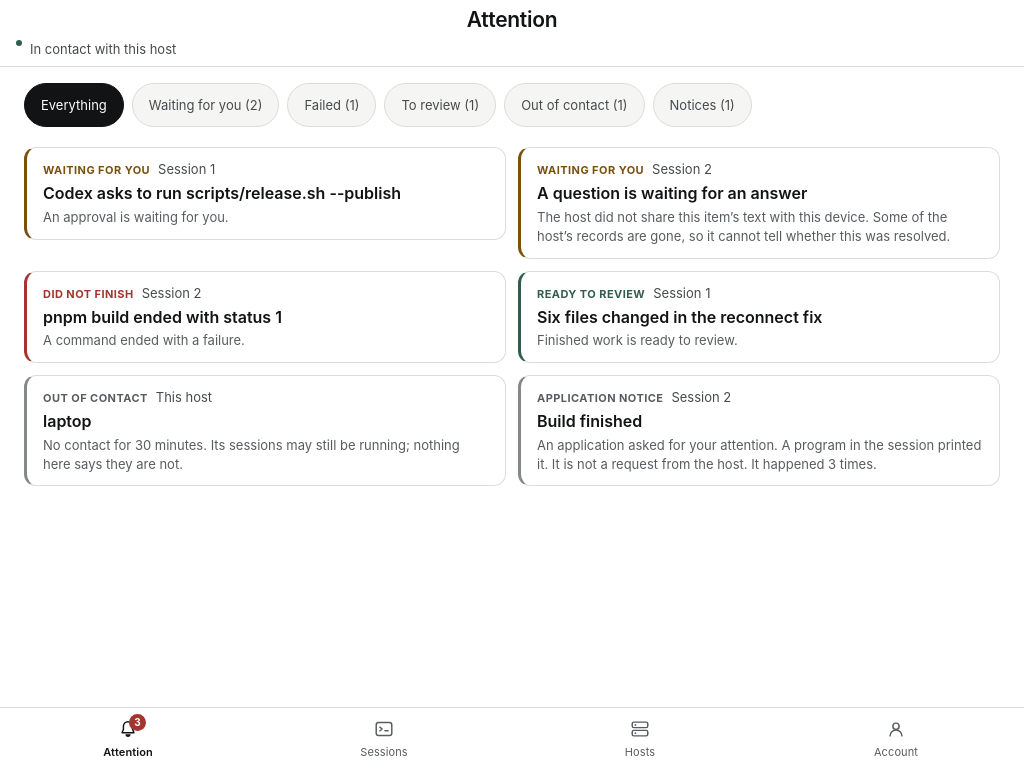
Test: a draft that came back is bound again when the host has said where it stands (KR-ACC-012) › asks the host about a draft in a session that is not on screen
Click the button "Sessions".
click(384, 738)  # box [256,708,512,767]
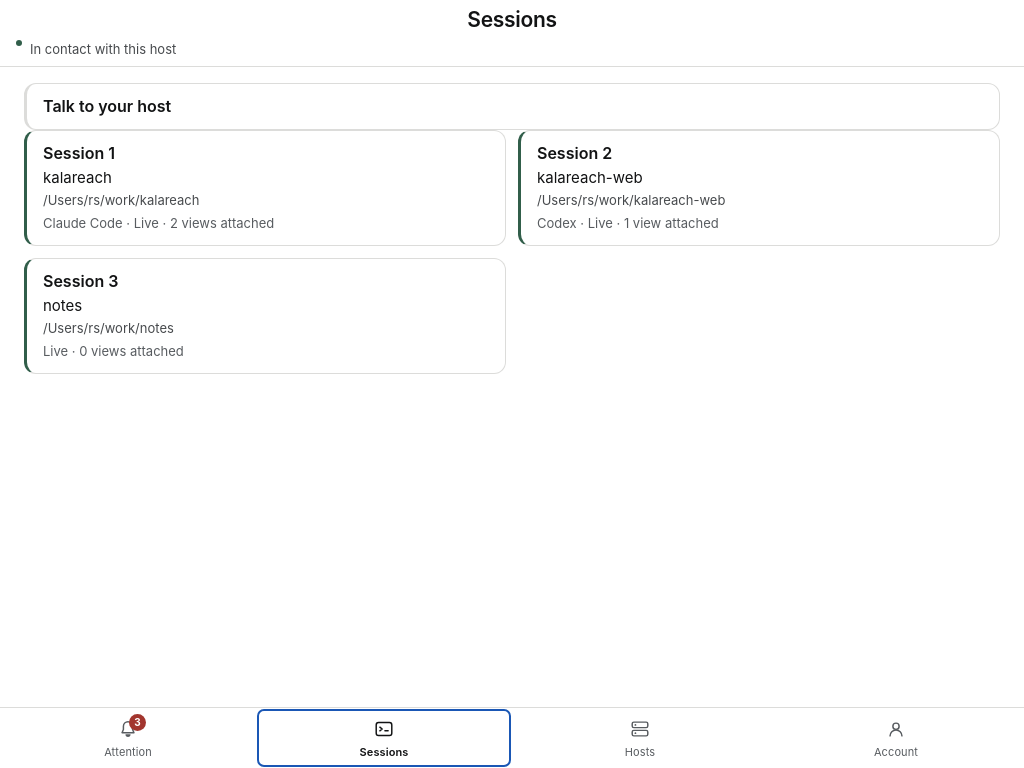
Click the button "Session 1".
click(79, 153)  # box [24,130,506,246]
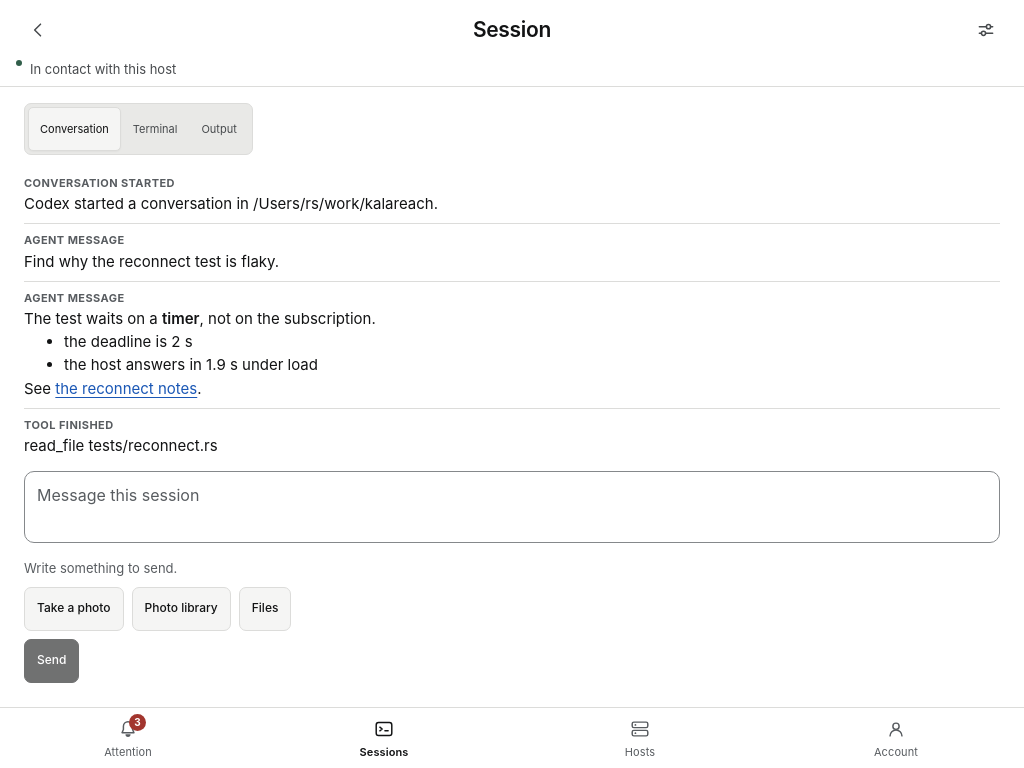
Type "written in session one" into the text box labelled "Message this session".
click(512, 507); type("written in session one")  # box [24,471,1000,543]
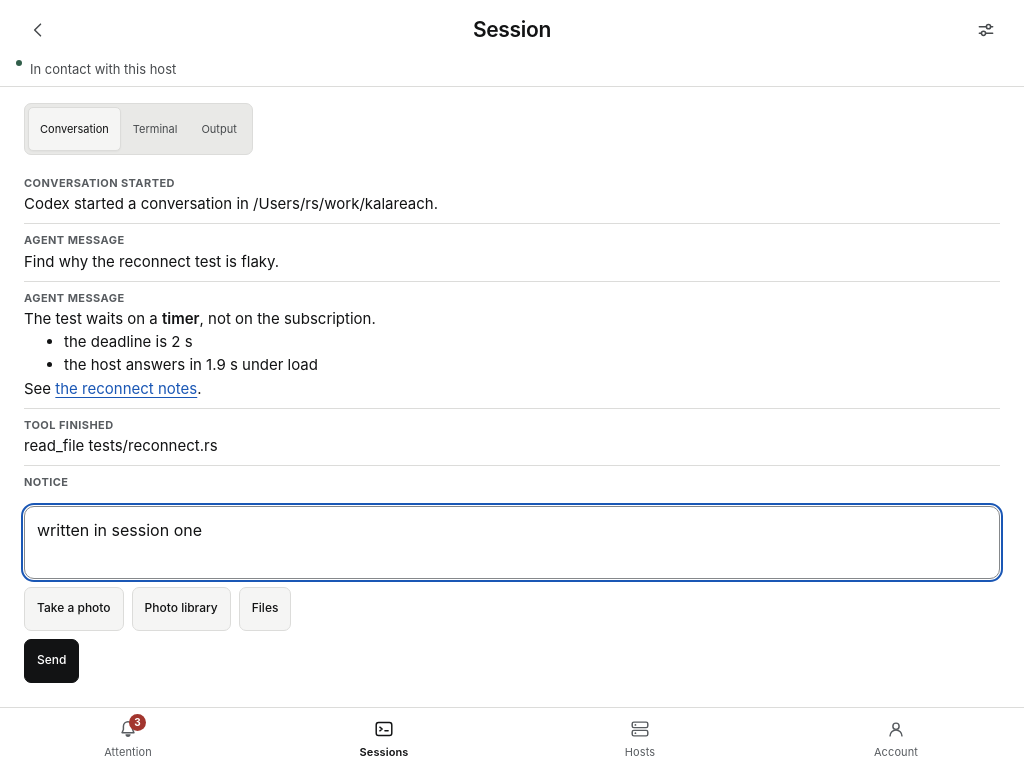
Click the button named "Back to sessions".
click(38, 30)  # box [16,8,60,52]
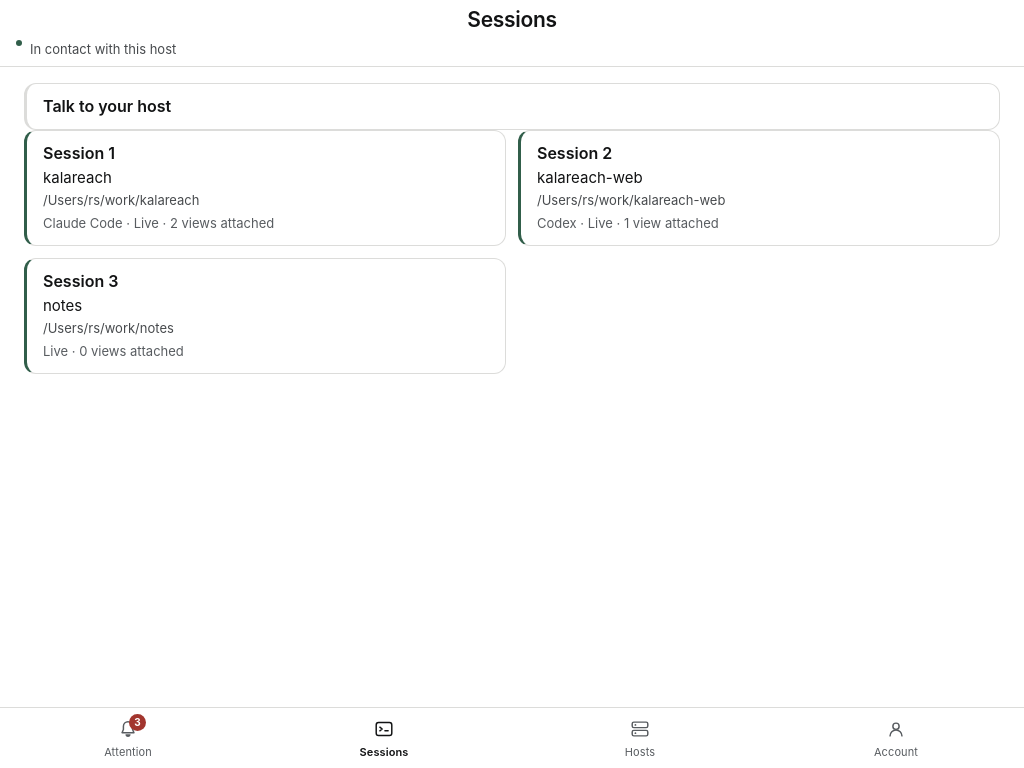
Click the button "Session 1".
click(79, 153)  # box [24,130,506,246]
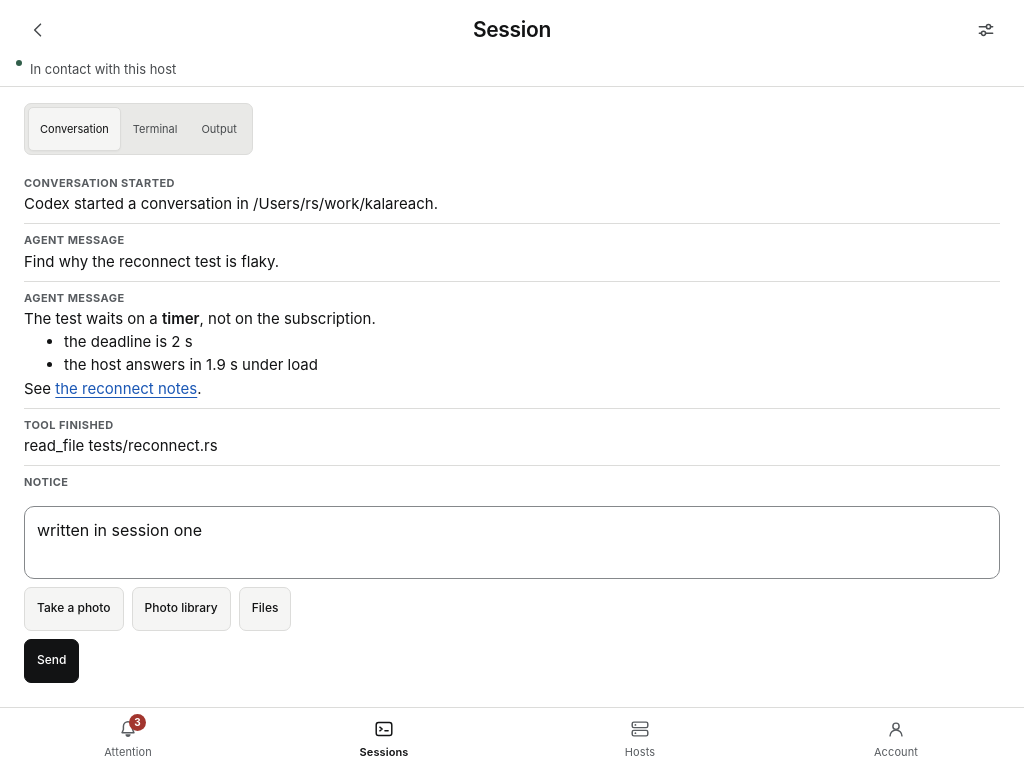
Result: the text box named "Message this session" holds "written in session one" at [24,506,1000,578]
Result: the button "Send" is enabled at [24,638,79,682]
